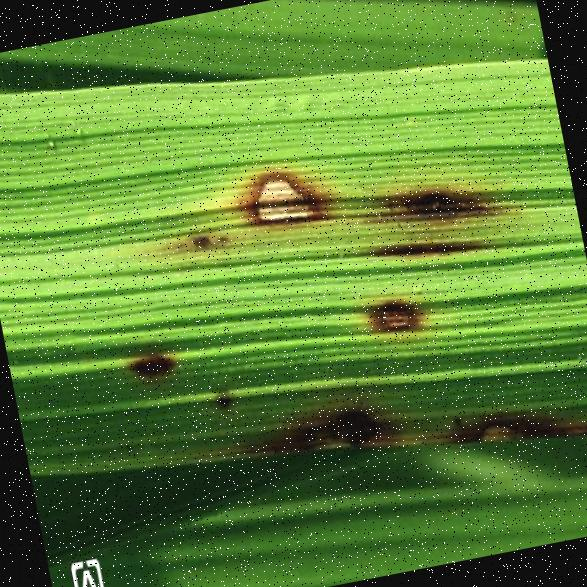Brown_Spot: (368, 158, 522, 254), (228, 140, 337, 238), (290, 382, 410, 464), (351, 264, 439, 342), (114, 331, 192, 385)
